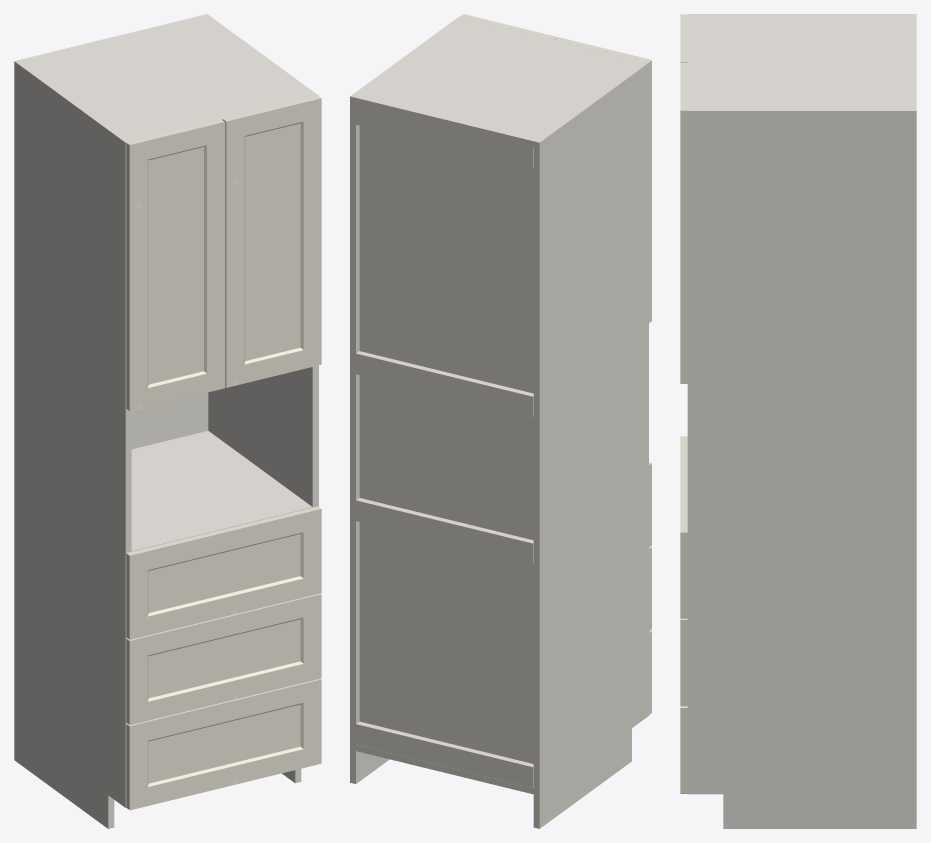
The model's file is Tall Microwave-3 Drawer.glb.
The picture shows the model from 3 angles, left to right: view 1: azimuth 30°, elevation 25°; view 2: azimuth 150°, elevation 25°; view 3: azimuth 270°, elevation 25°; orthographic projection. The views are drawn at different scales.
Visible parts, largest first — view 1: Geom3D_UEnd (L)-A (×2), Geom3D_Drawer (×2), Geom3D_Door(L), Geom3D_Door(R), Geom3D_Top-D, Geom3D_Drawer-Bottom, Geom3D_Fixed Shelf-I.F, Geom3D_UEnd (R)-G (×2), Geom3D_UBack-C; view 2: Geom3D_UBack-C, Geom3D_UEnd (L)-A, Geom3D_Top-D, Geom3D_Nailer-H (×4), Geom3D_UEnd (R)-G, Geom3D_Bottom-B, Geom3D_Door(L); view 3: Geom3D_UEnd (R)-G, Geom3D_Top-D, Geom3D_Door(R), Geom3D_Drawer (×2), Geom3D_Drawer-Bottom, Geom3D_UEnd (L)-A.
Part boxes in pixels (bbox=[...]): Geom3D_UEnd (L)-A (×2): bbox=[14, 59, 131, 828]; Geom3D_Drawer (×2): bbox=[126, 506, 321, 724]; Geom3D_Door(L): bbox=[126, 119, 225, 411]; Geom3D_Door(R): bbox=[222, 96, 321, 387]; Geom3D_Top-D: bbox=[21, 15, 311, 140]; Geom3D_Drawer-Bottom: bbox=[126, 678, 321, 810]; Geom3D_Fixed Shelf-I.F: bbox=[131, 431, 312, 550]; Geom3D_UEnd (R)-G (×2): bbox=[201, 14, 318, 783]; Geom3D_UBack-C: bbox=[131, 392, 208, 449]; Geom3D_UBack-C: bbox=[359, 126, 533, 763]; Geom3D_UEnd (L)-A: bbox=[533, 61, 648, 828]; Geom3D_Top-D: bbox=[356, 18, 642, 147]; Geom3D_Nailer-H (×4): bbox=[356, 104, 533, 787]; Geom3D_UEnd (R)-G: bbox=[350, 16, 464, 783]; Geom3D_Bottom-B: bbox=[353, 745, 536, 794]; Geom3D_Door(L): bbox=[555, 37, 651, 322]; Geom3D_UEnd (R)-G: bbox=[687, 107, 916, 828]; Geom3D_Top-D: bbox=[687, 17, 916, 107]; Geom3D_Door(R): bbox=[680, 63, 687, 383]; Geom3D_Drawer (×2): bbox=[680, 436, 687, 706]; Geom3D_Drawer-Bottom: bbox=[680, 706, 687, 793]; Geom3D_UEnd (L)-A: bbox=[687, 14, 916, 16].
Size of the model in its own units: 0.6096 by 2.11 by 0.6286.
3 materials, 3 textured.
